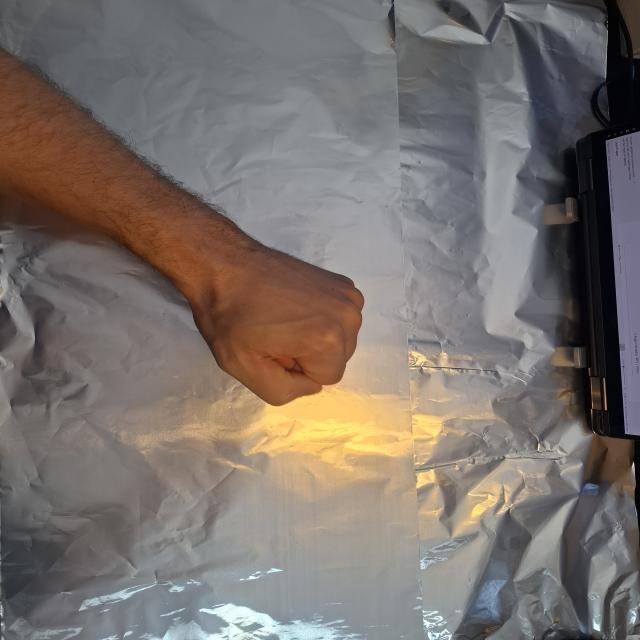glove_off: (187, 238, 369, 408)
